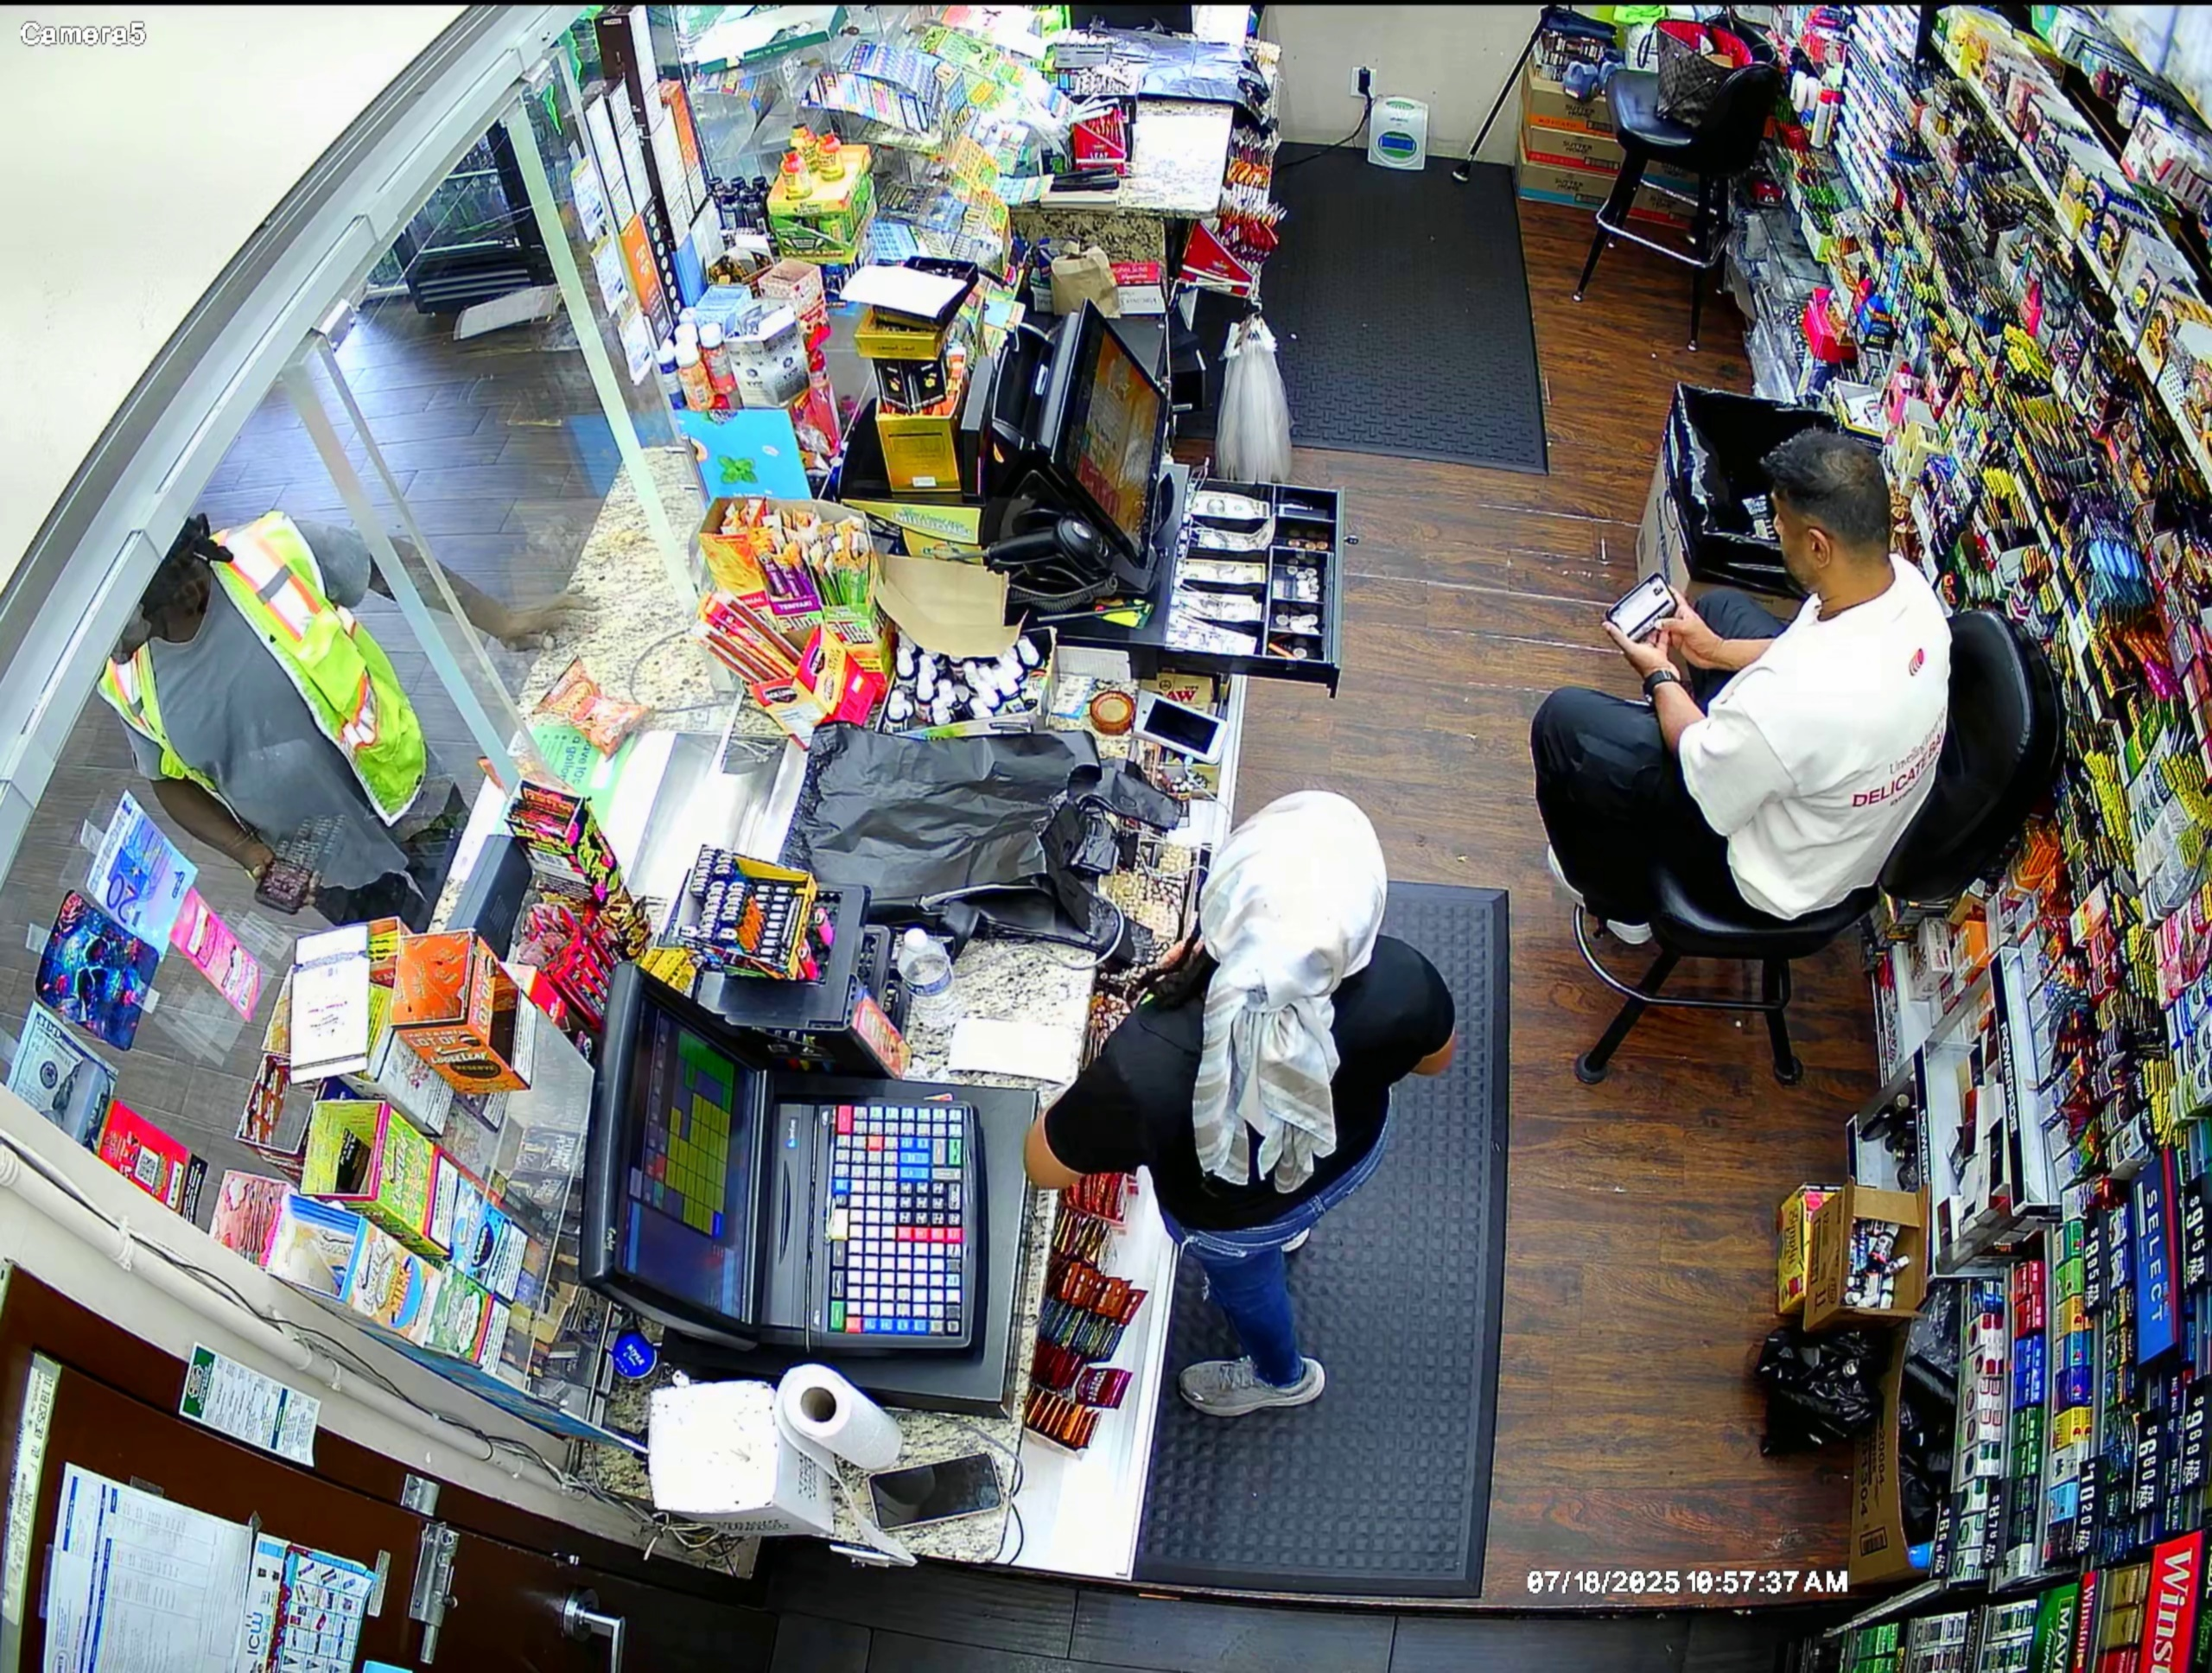phone: (1597, 573, 1692, 650), (249, 838, 327, 926)
